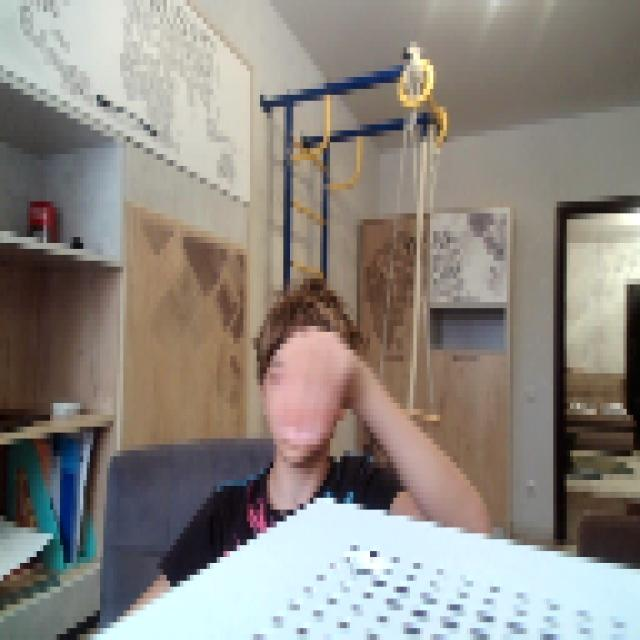left_click: (270, 314, 347, 450)
